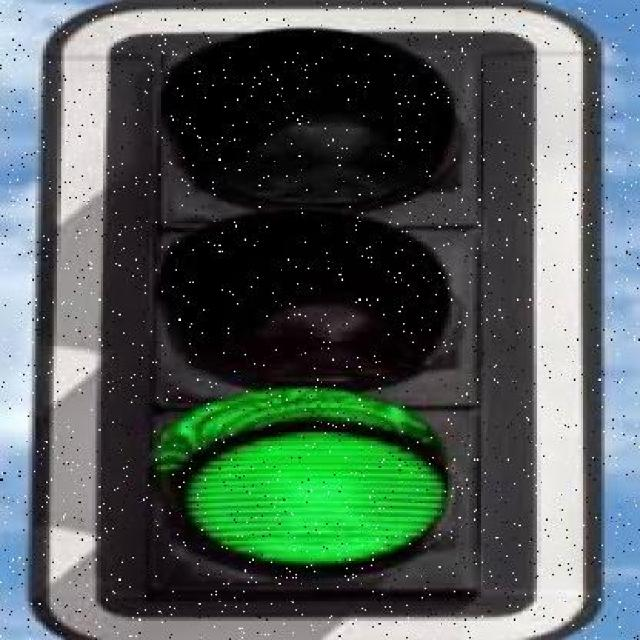green-light: (79, 23, 566, 632)
